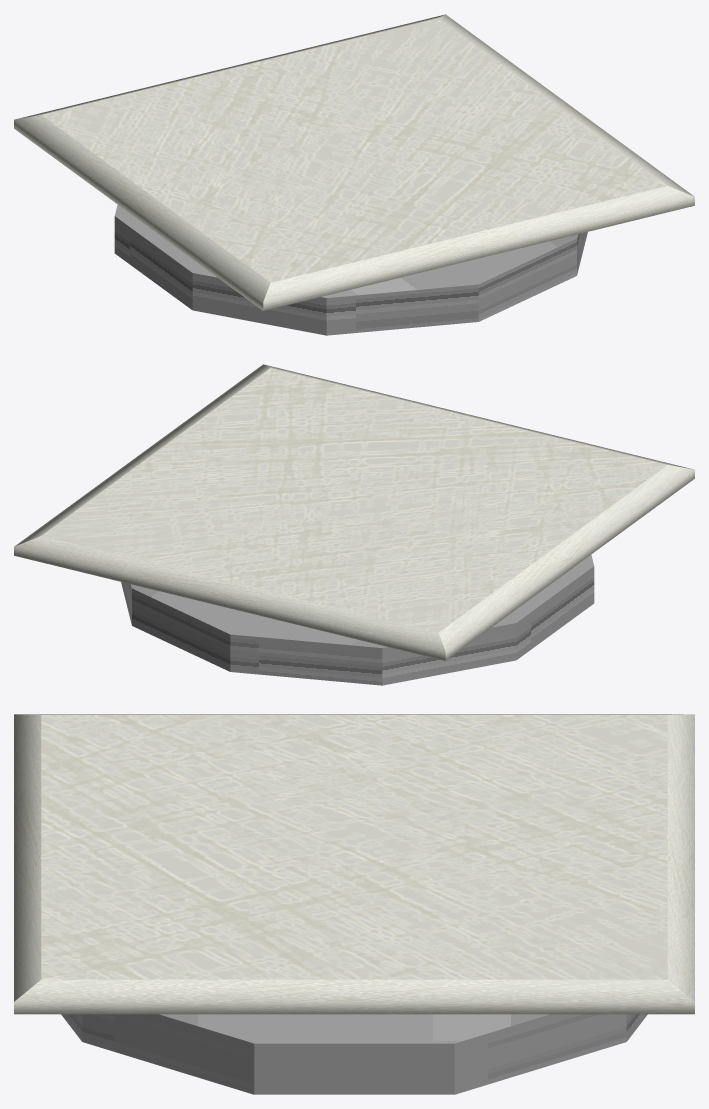
The model's file is springboard2.obj.
3 views of the same model, one above another, from view 1: azimuth 30°, elevation 25°; view 2: azimuth 150°, elevation 25°; view 3: azimuth 270°, elevation 25° (orthographic). The views are drawn at different scales.
Parts seen in each view (by area): view 1: Box001, Gengon001; view 2: Box001, Gengon001; view 3: Box001, Gengon001.
Part boxes in pixels (x1=…): Box001: x1=14, y1=14, x2=694, y2=310; Gengon001: x1=114, y1=205, x2=587, y2=335; Box001: x1=14, y1=364, x2=694, y2=660; Gengon001: x1=121, y1=555, x2=594, y2=685; Box001: x1=14, y1=714, x2=694, y2=1014; Gengon001: x1=61, y1=1014, x2=647, y2=1094.
Bounding box in the file's own units: 44.02 × 8.04 × 44.02.
